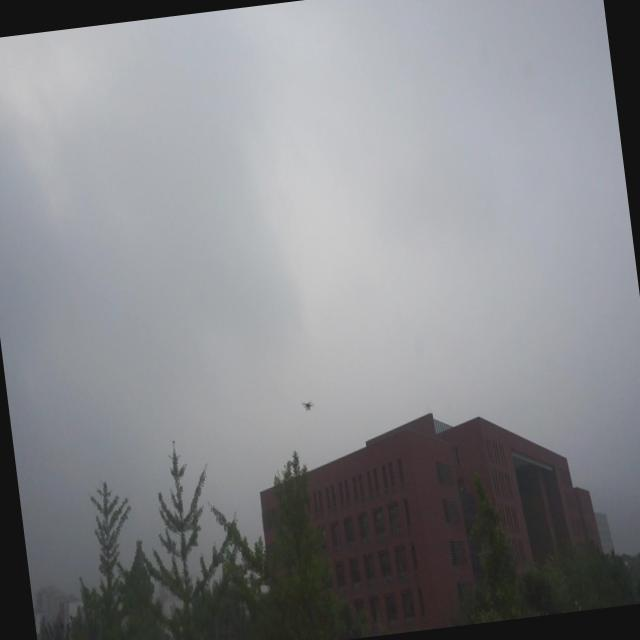drone: (298, 397, 316, 416)
